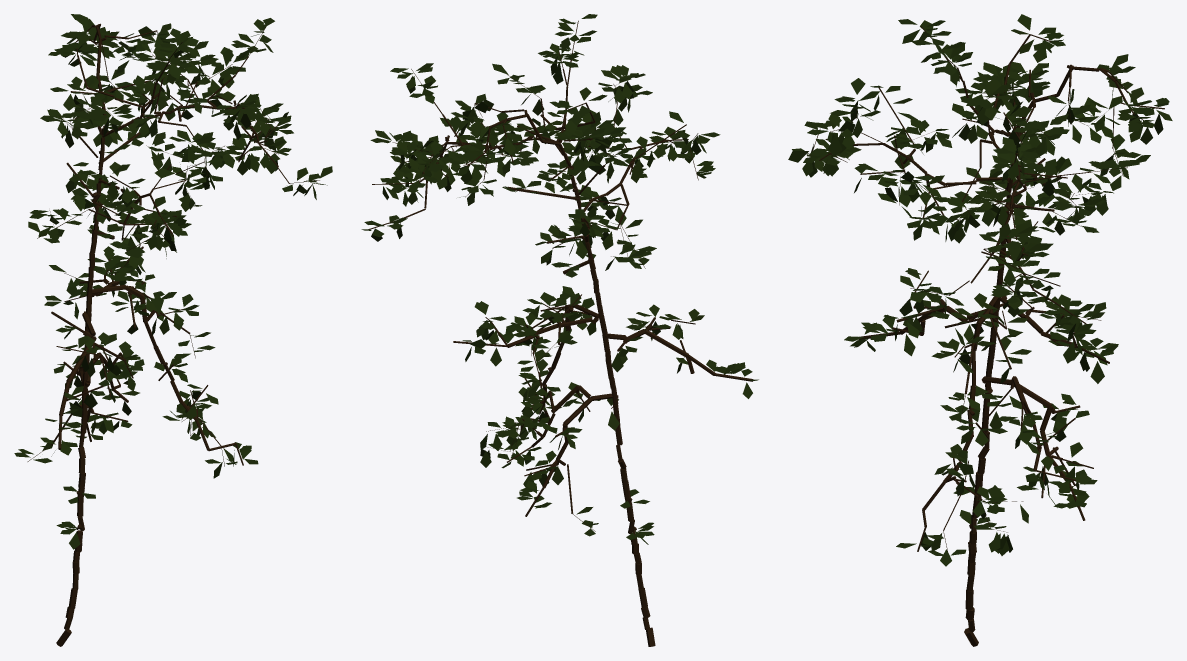
The model's file is 2022_tree_115.obj.
The picture shows the model from 3 angles, left to right: view 1: azimuth 30°, elevation 25°; view 2: azimuth 150°, elevation 25°; view 3: azimuth 270°, elevation 25°; orthographic projection. The views are drawn at different scales.
Parts seen in each view (by area): view 1: Leaves, TrunkAndBranches; view 2: Leaves, TrunkAndBranches; view 3: Leaves, TrunkAndBranches.
Boxes of the visible parts, x1,y1,x2,y2 form: Leaves: (14,14,332,549); TrunkAndBranches: (27,23,319,646); Leaves: (361,14,758,544); TrunkAndBranches: (368,20,753,646); Leaves: (788,14,1172,566); TrunkAndBranches: (810,26,1164,646).
Size of the model in its own units: 5.11 by 9.42 by 4.83.
